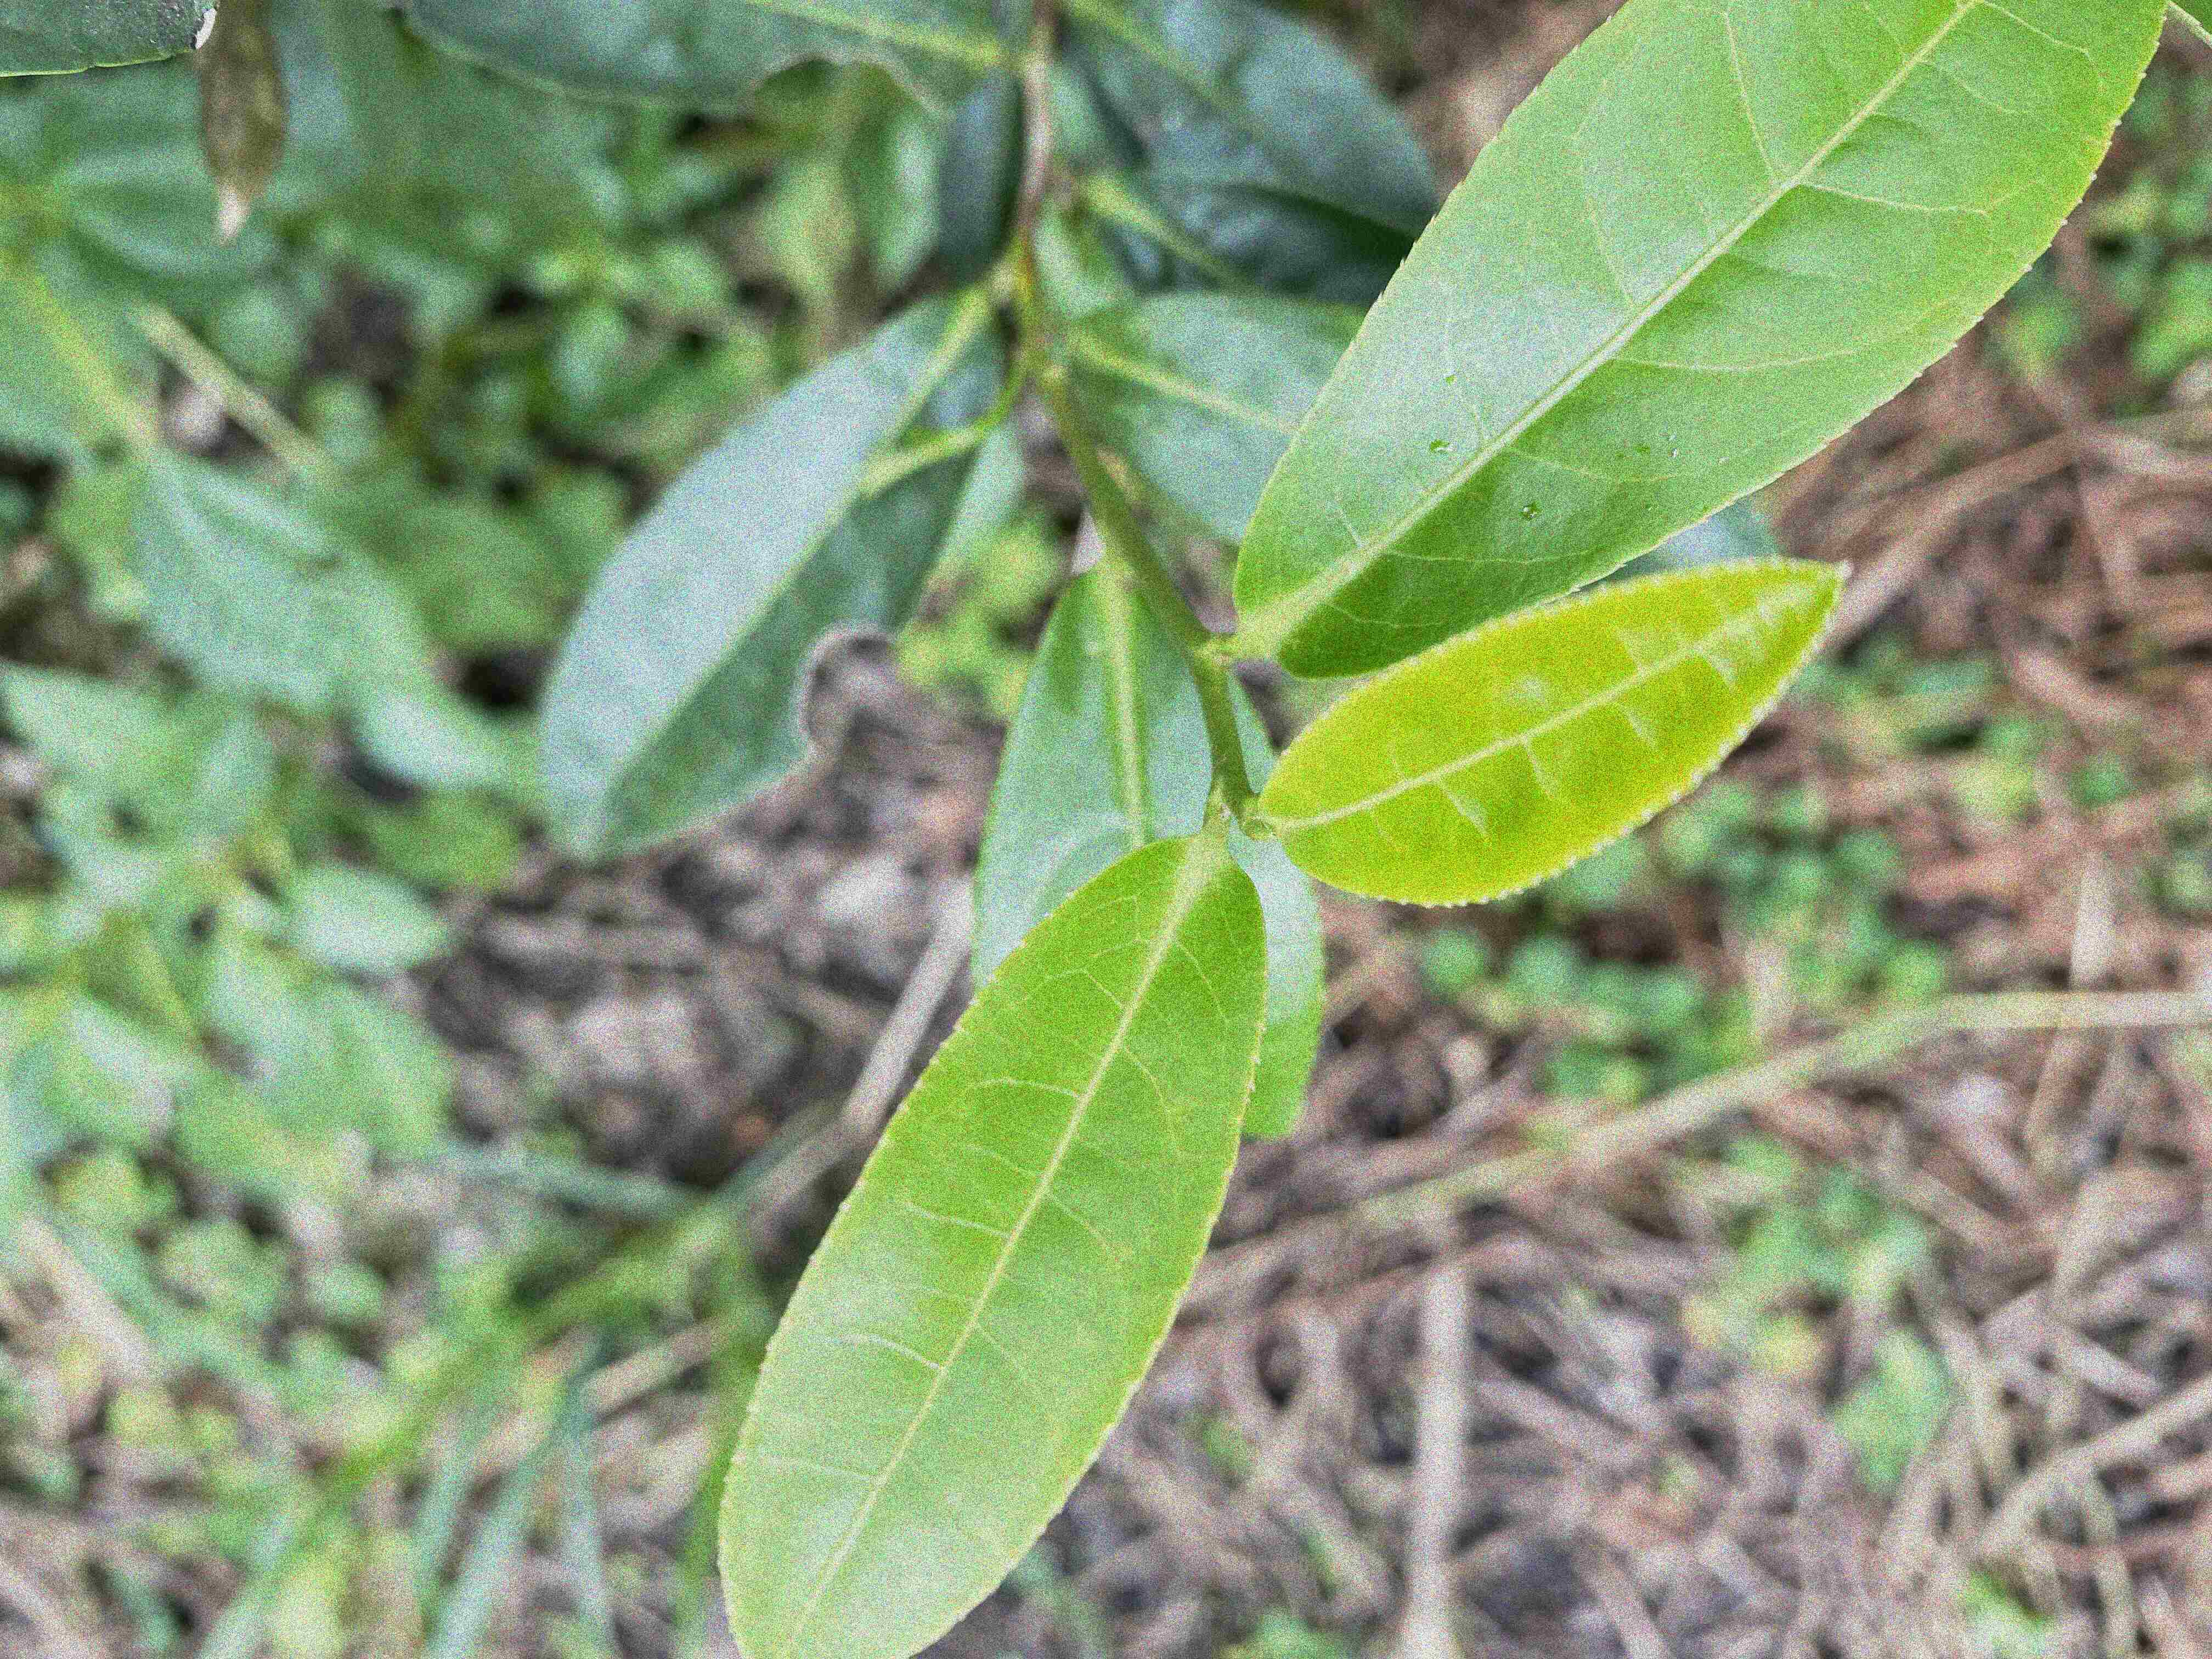chihuo_low: (533, 293, 1005, 861)
healthy: (1233, 2, 2174, 683), (711, 836, 1271, 1657), (1254, 558, 1843, 908)
